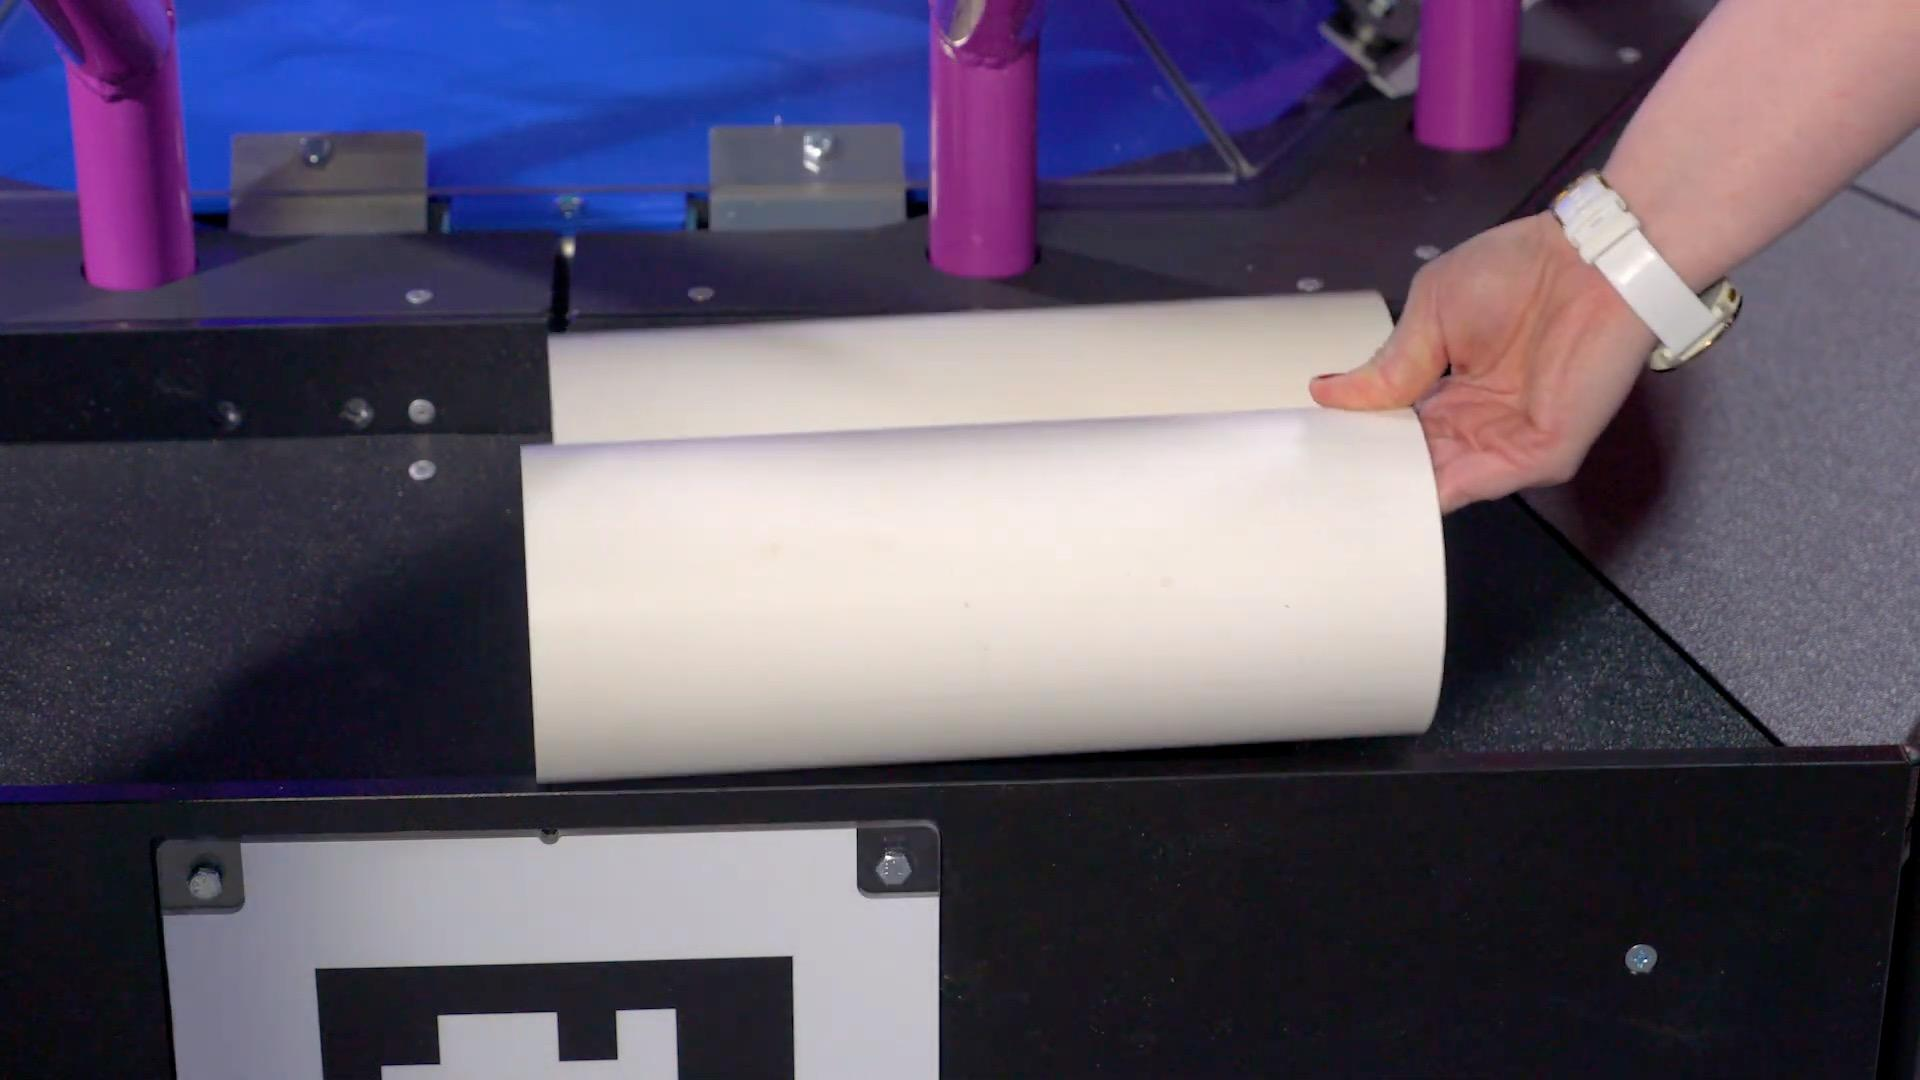CORAL: (516, 401, 1449, 784), (542, 286, 1398, 444)
